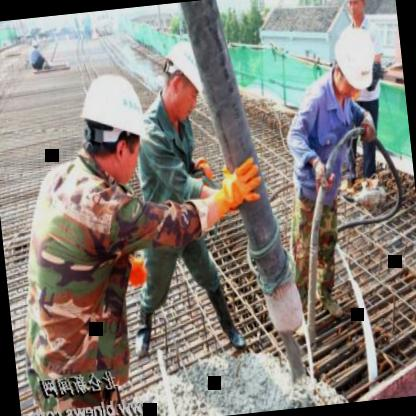helmet: (70, 61, 160, 194), (155, 32, 212, 127), (326, 18, 382, 100), (341, 0, 374, 26)
